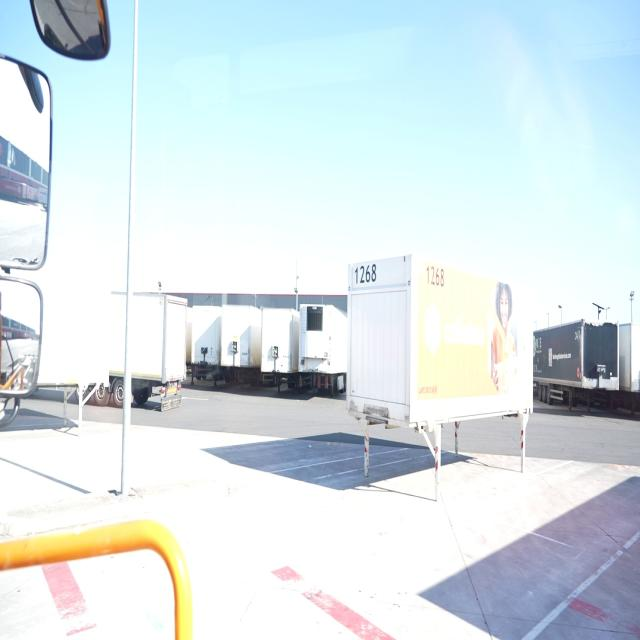Code: (423, 258, 447, 292), (351, 260, 380, 287)
